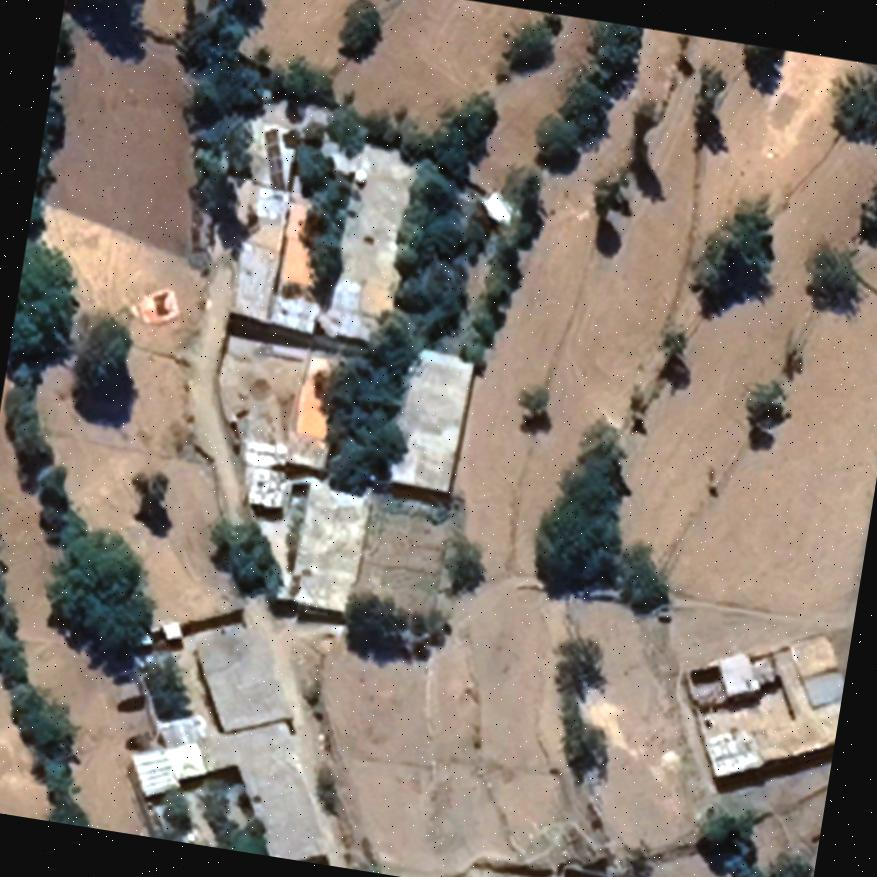Solarpanel: (251, 123, 296, 195)
